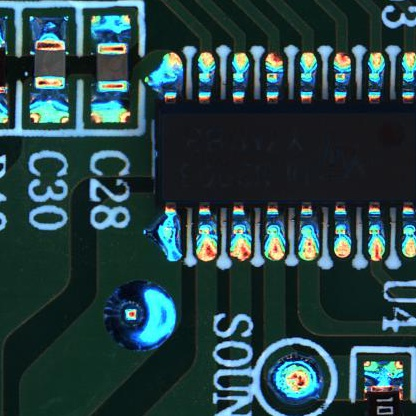spot: (95, 278, 185, 356), (263, 350, 325, 407)
